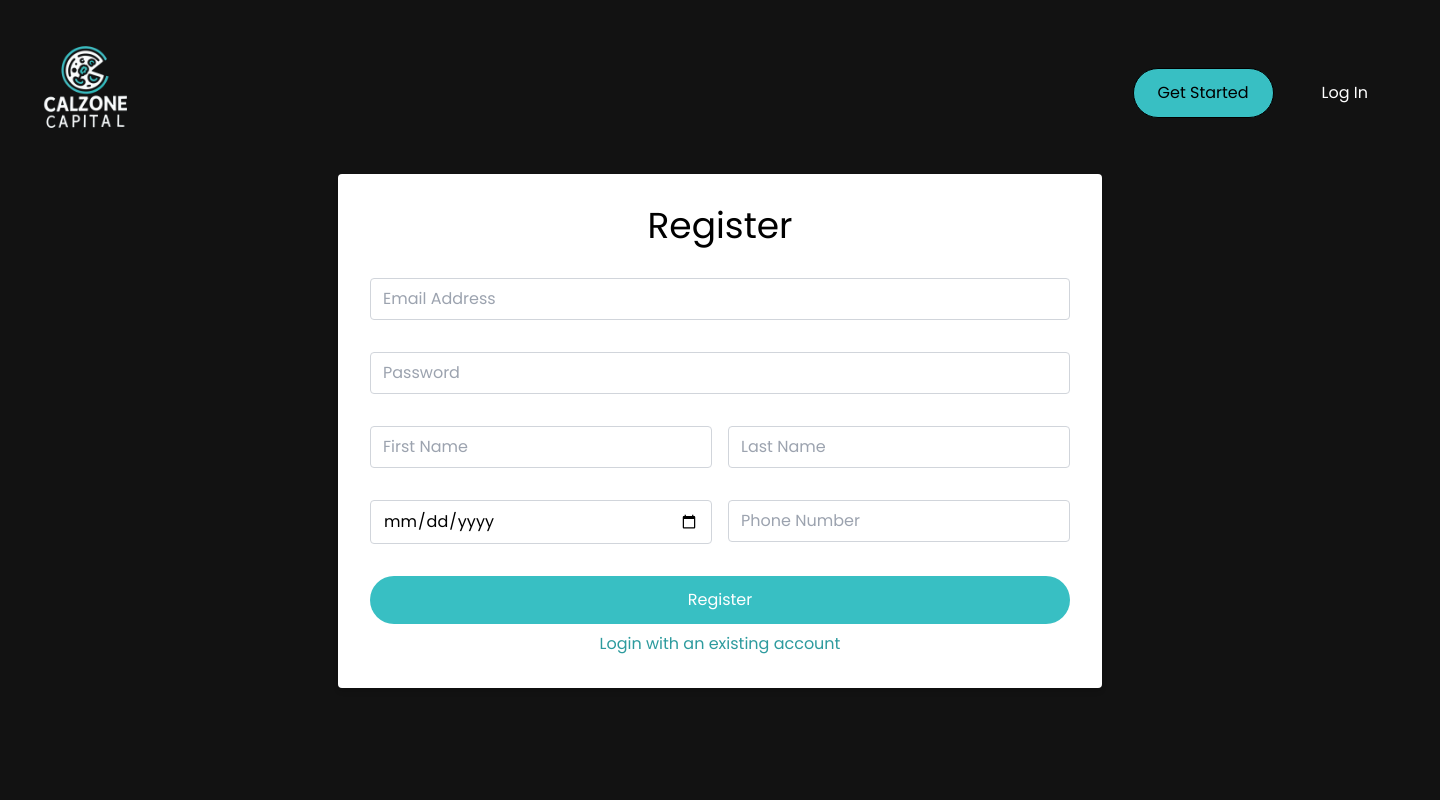
Scenario: Registration Form Tests › validates age requirement
The width and height of the screenshot is (1440, 800).
Note: Fill all other fields with valid data
Type "user@example.com" into the field with placeholder "Email Address" at (720, 299), box left=370, top=278, right=1070, bottom=320
Type "password123456" into the password field with placeholder "Password" at (720, 373), box left=370, top=352, right=1070, bottom=394
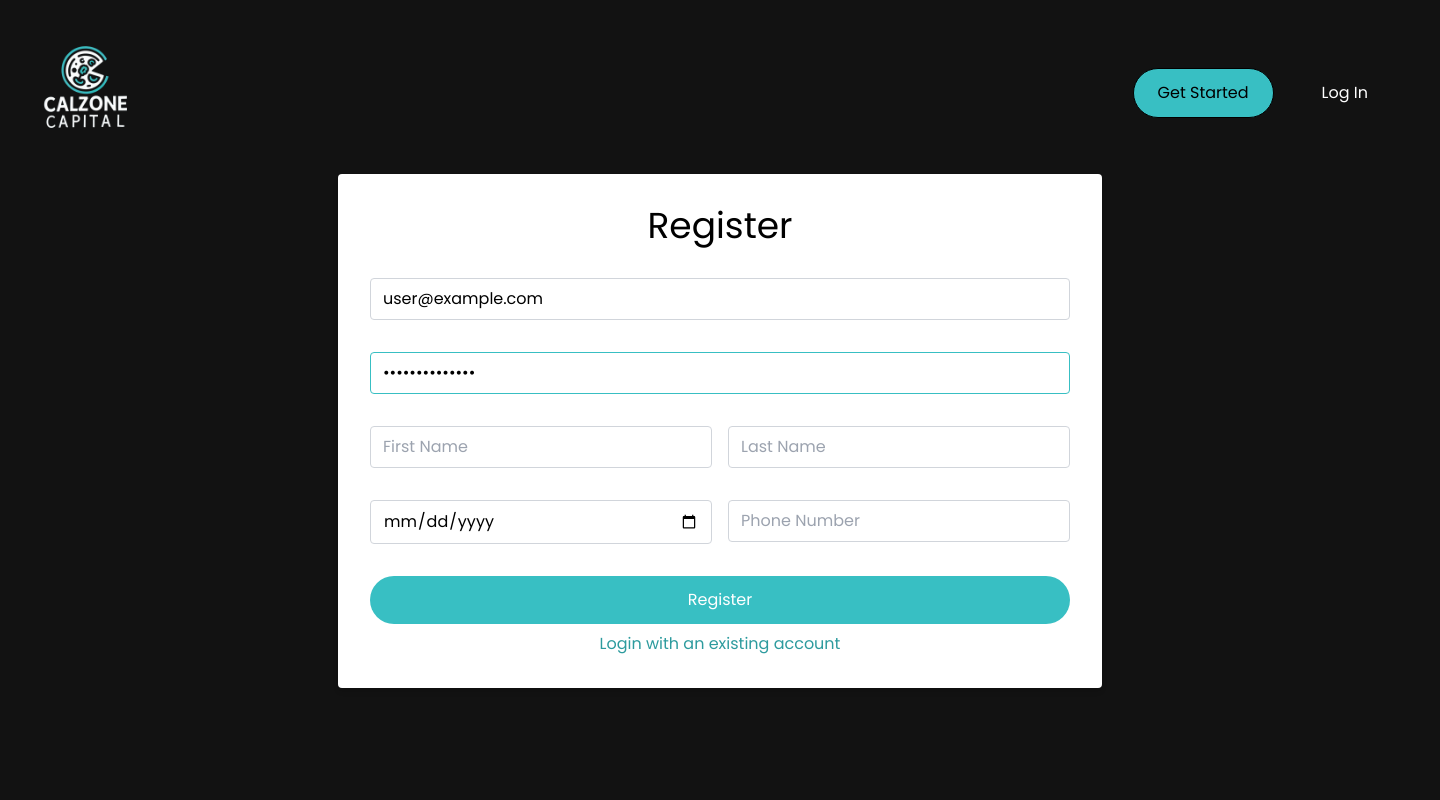
Type "John" into the field with placeholder "First Name" at (541, 447), box left=370, top=426, right=712, bottom=468
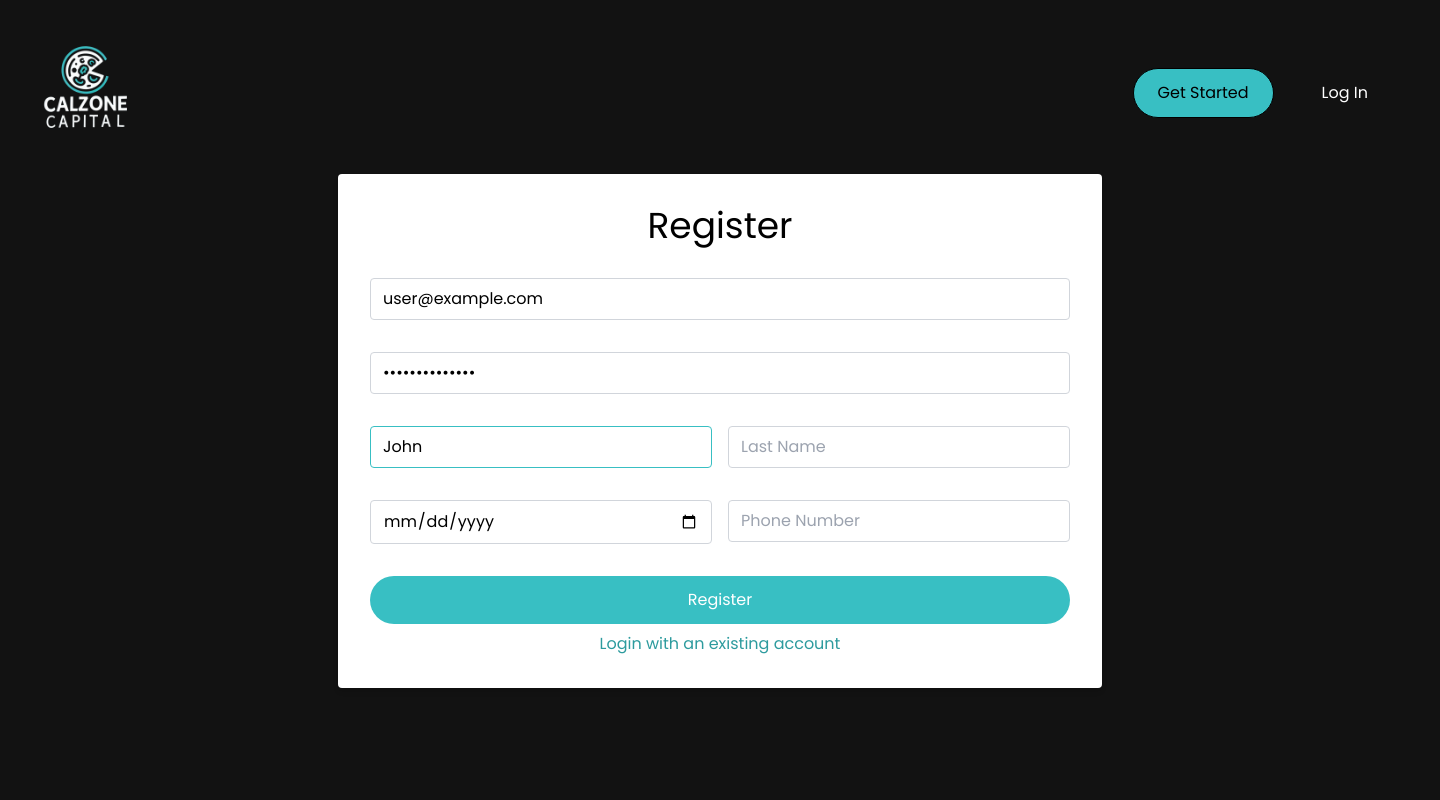
Type "Doe" into the field with placeholder "Last Name" at (899, 447), box left=728, top=426, right=1070, bottom=468
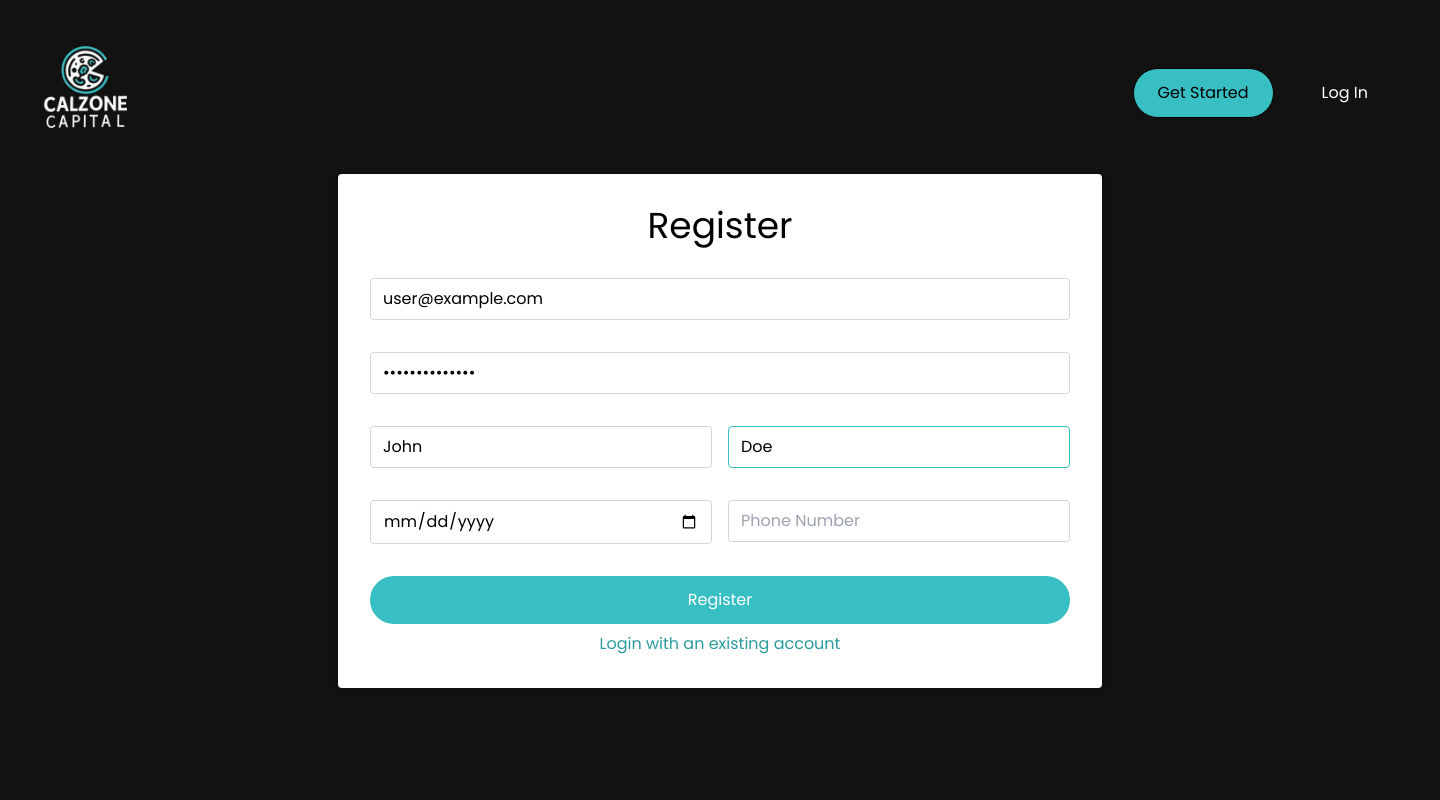
Type "9876543210" into the field with placeholder "Phone Number" at (899, 521), box left=728, top=500, right=1070, bottom=542
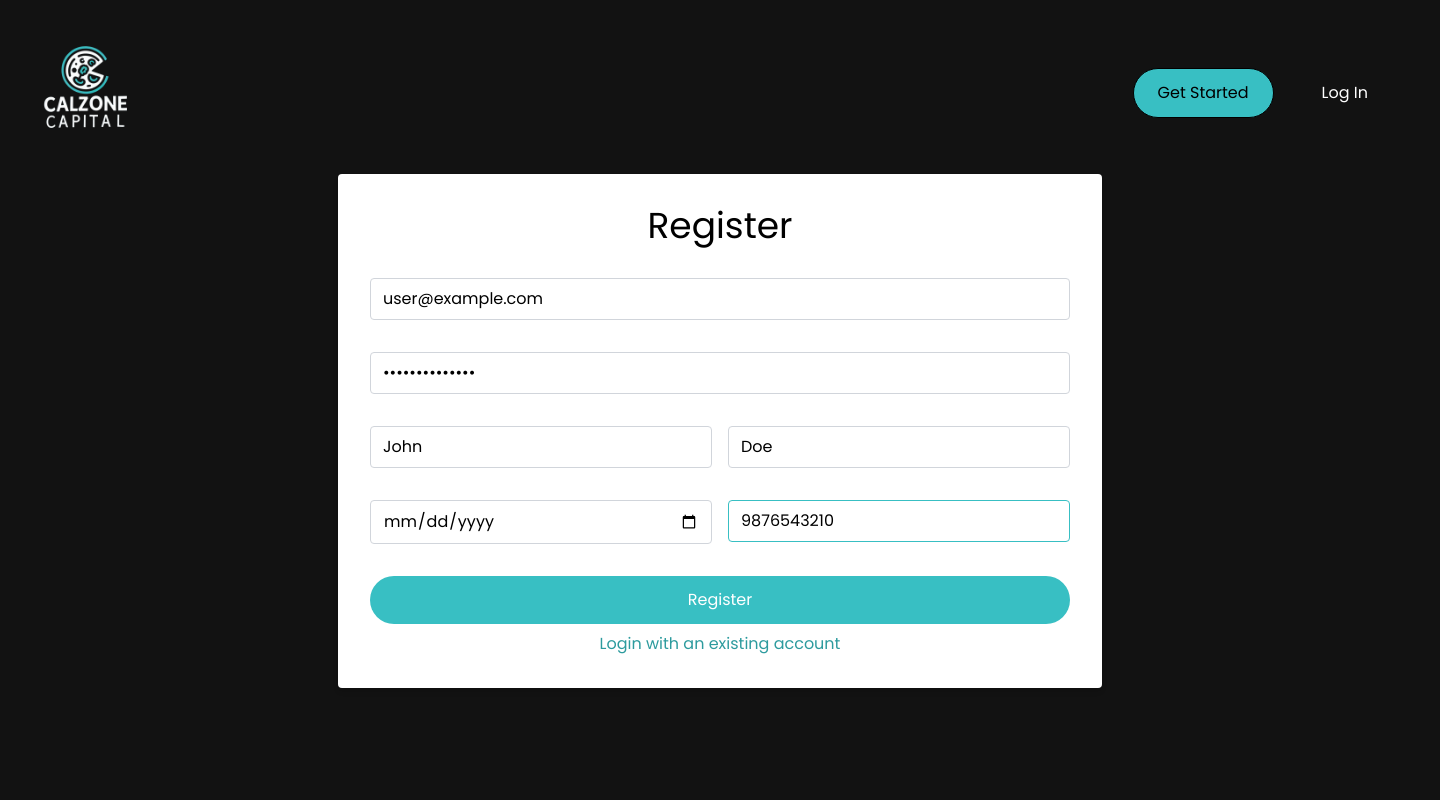
Note: Set an invalid date of birth
Type "2015-01-01" into the date field with placeholder "Date of Birth" at (541, 522), box left=370, top=500, right=712, bottom=544
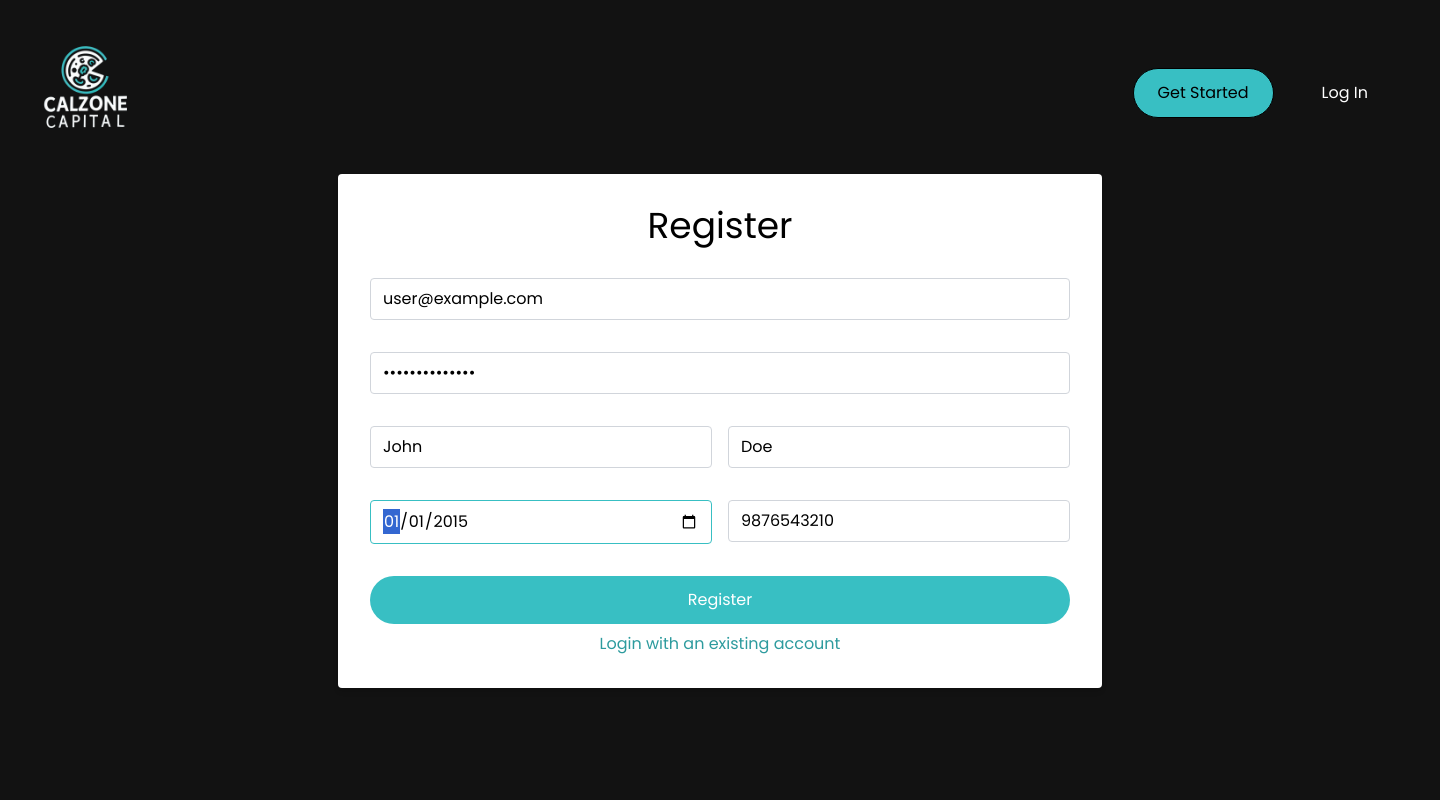
Click the button "Register" at (720, 600), box left=370, top=576, right=1070, bottom=624
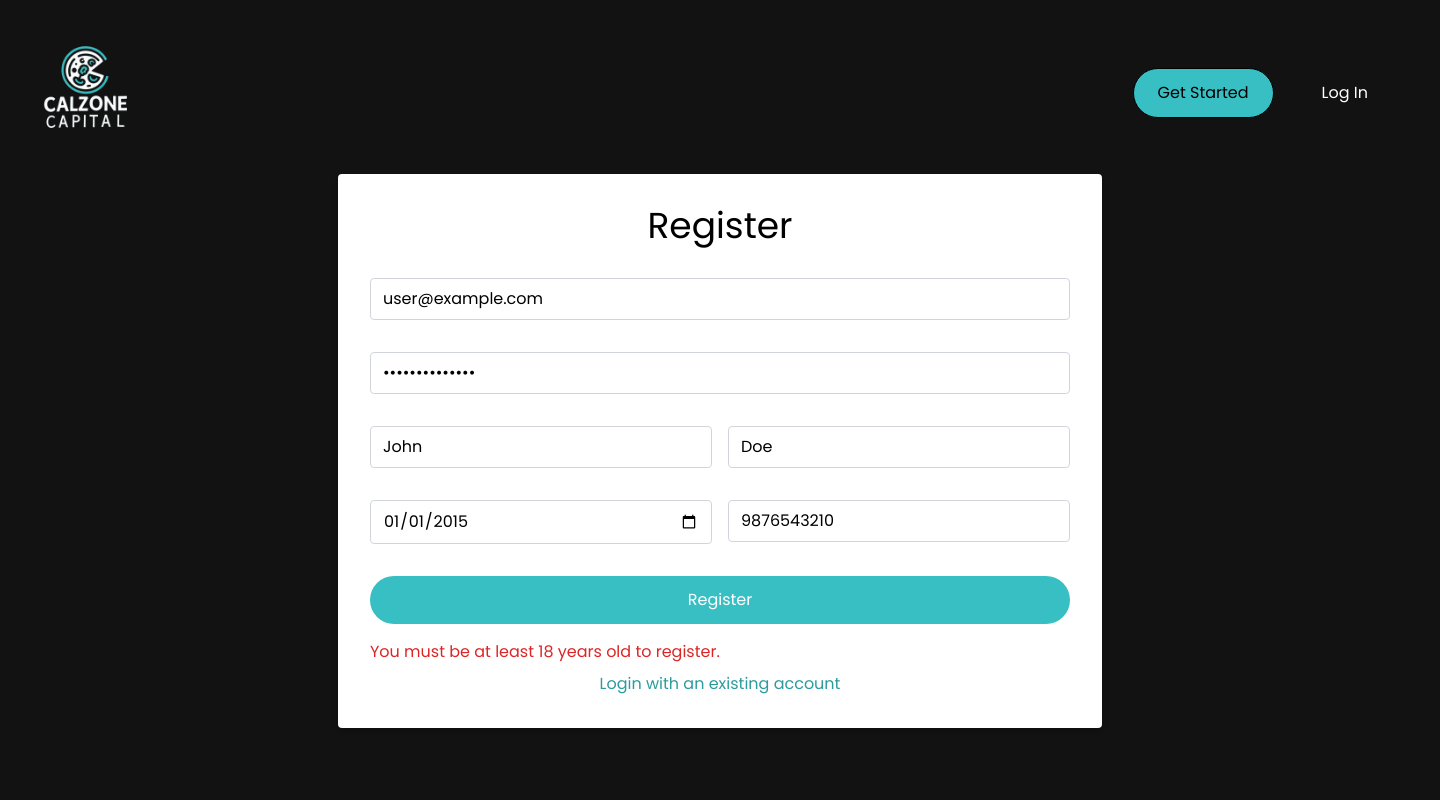
Expected: the text "You must be at least 18 years old to register." is shown, left=370, top=640, right=720, bottom=663
